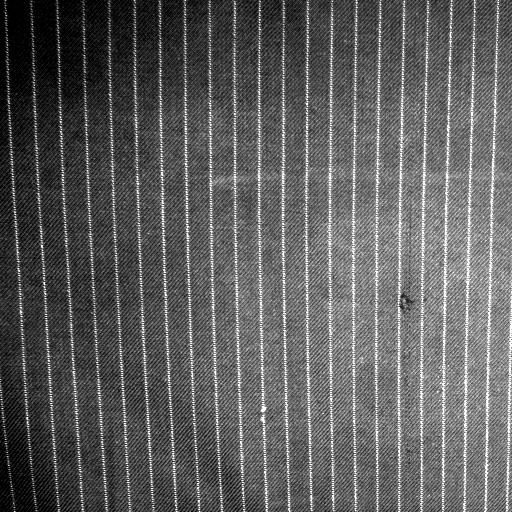fabric_hole: (396, 290, 416, 324)
